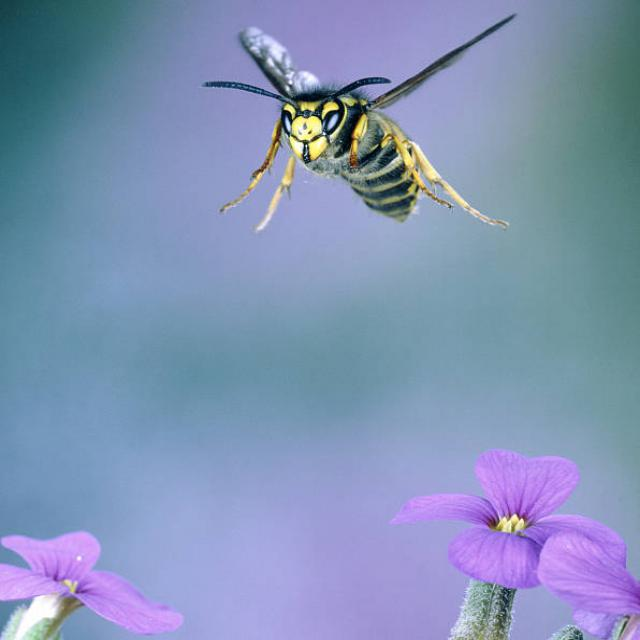Vespa Crabro: (192, 8, 560, 245), (190, 1, 545, 237)
